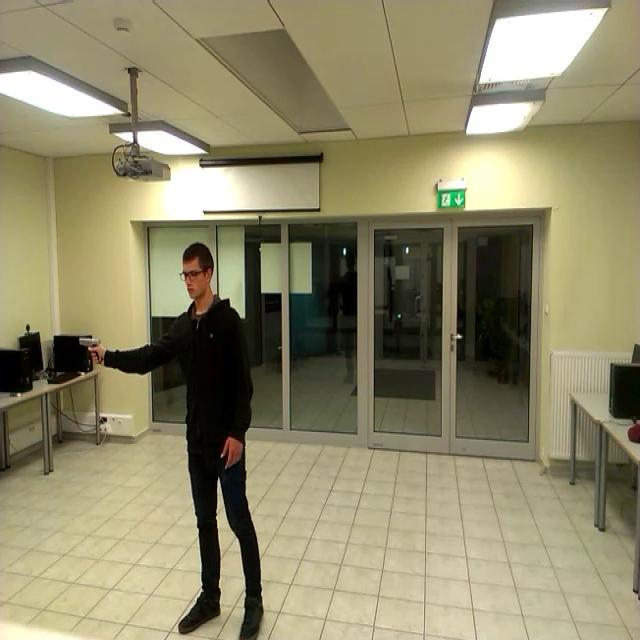Gun: (68, 322, 114, 368)
